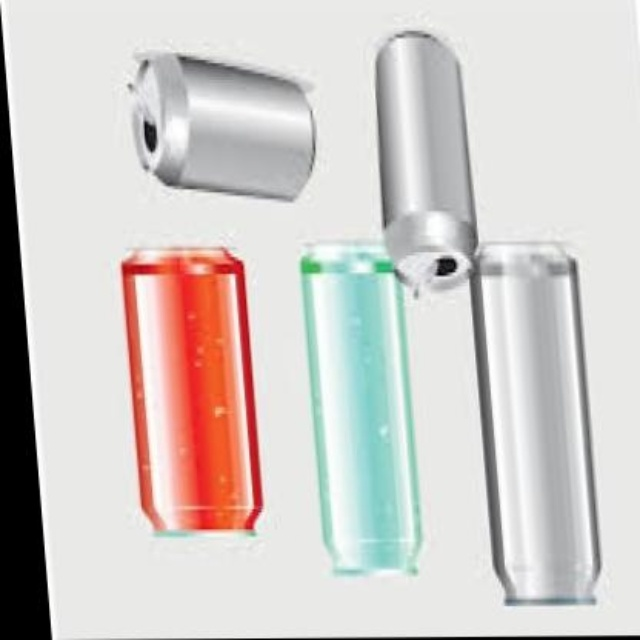trash: (471, 243, 598, 603), (122, 248, 262, 531), (300, 243, 420, 572), (134, 52, 312, 200)
